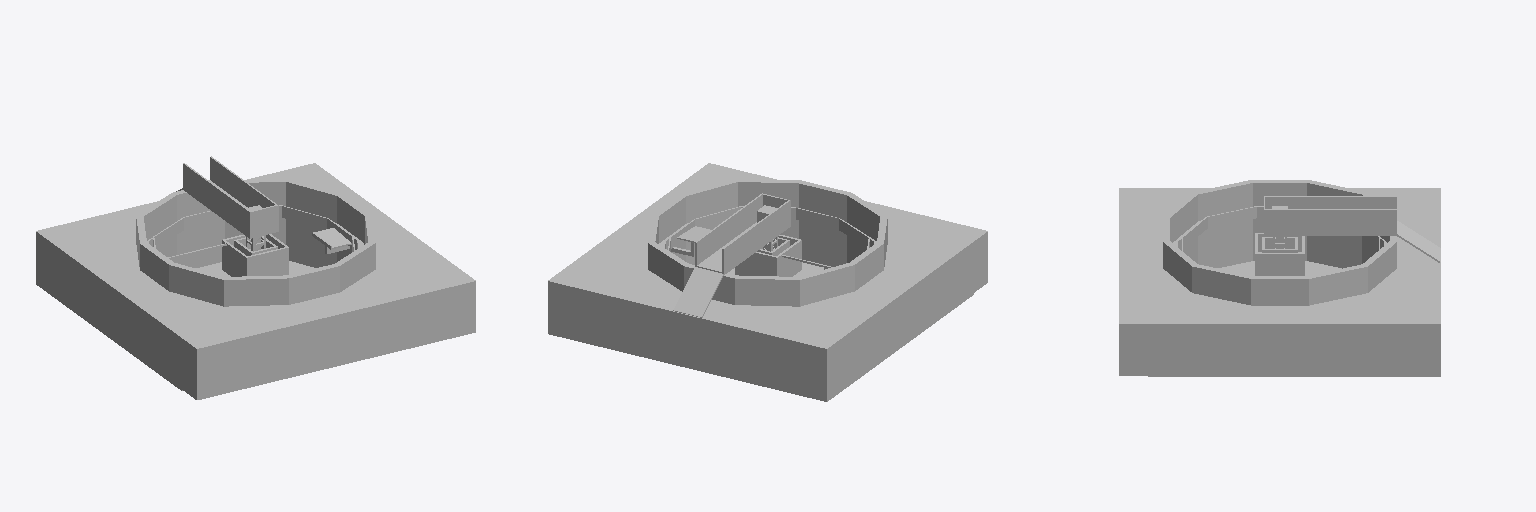
File: clarifier.obj
3 renders of one model, left to right at view 1: azimuth 30°, elevation 25°; view 2: azimuth 150°, elevation 25°; view 3: azimuth 270°, elevation 25°, orthographic.
Parts seen in each view (by area): view 1: cube; view 2: cube; view 3: cube.
Boxes of the visible parts, <box> form: cube: <box>36,156,475,399</box>; cube: <box>548,163,987,401</box>; cube: <box>1119,180,1440,376</box>.
Bounding box in the file's own units: 11 × 4 × 11.